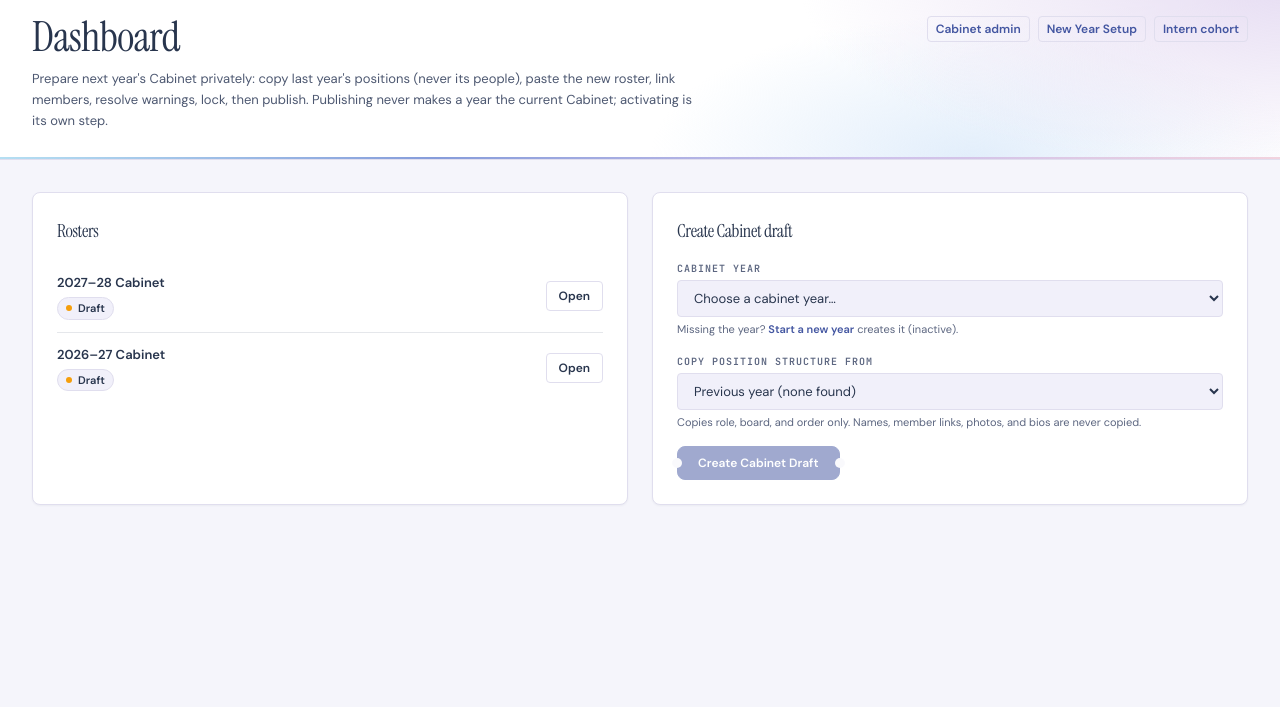
switching rosters while a load is in flight › never shows a slow response for the roster you already left
Click the button "Open" in the row of "2027–28": coordinates (574, 296) top-left (546, 281), bottom-right (603, 311)
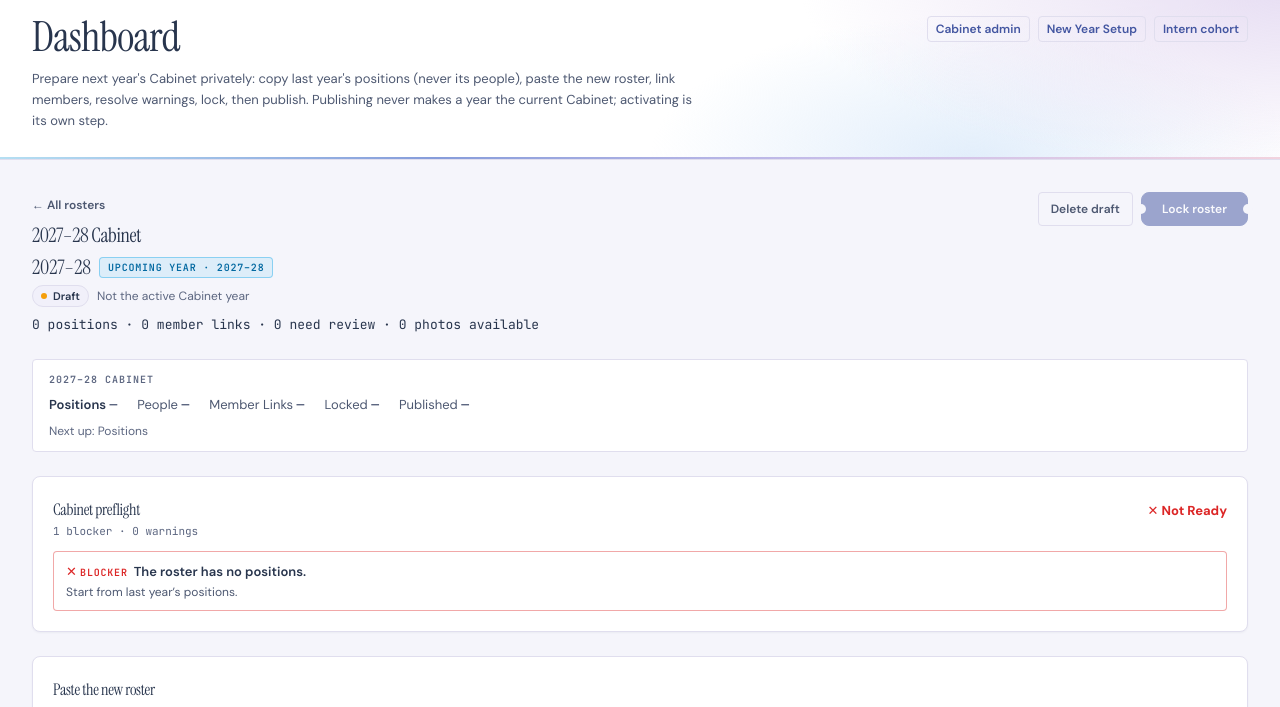
Expected: the heading "2027–28 Cabinet" is shown, top-left (32, 222), bottom-right (141, 248)
Click the button "← All rosters": coordinates (69, 205) top-left (32, 197), bottom-right (105, 213)
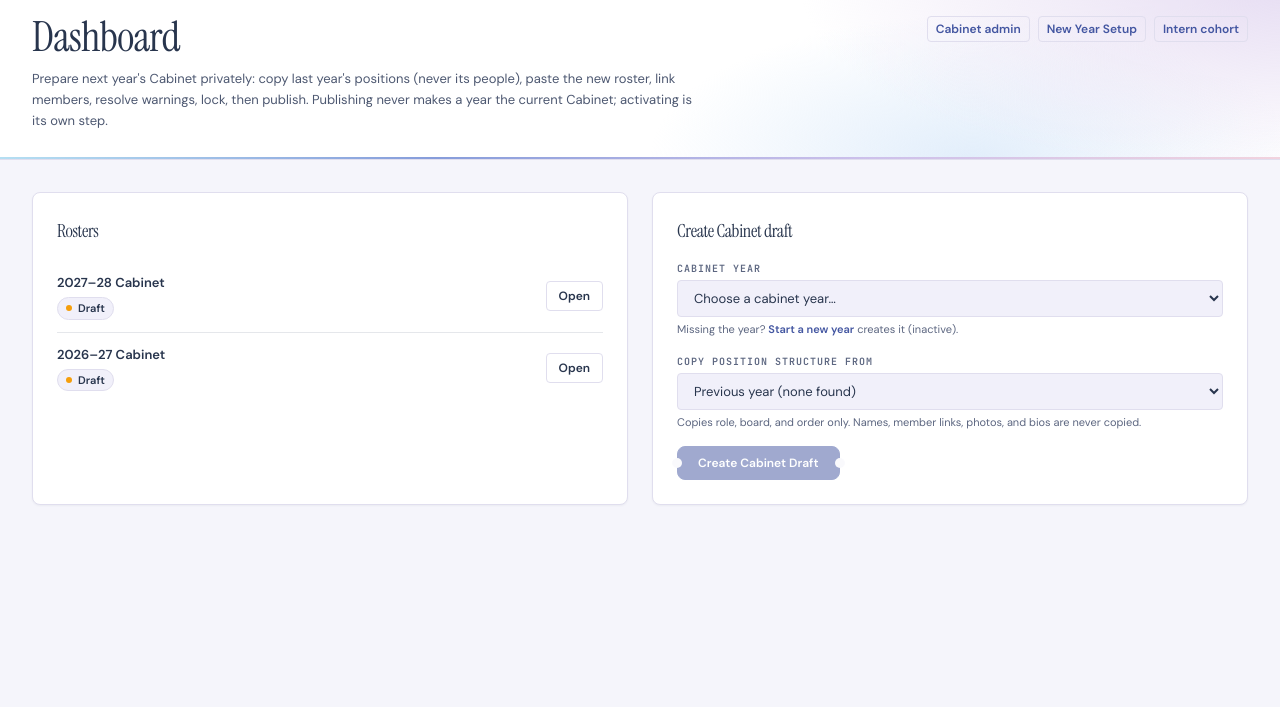
Click the button "Open" in the row of "2026–27": coordinates (574, 368) top-left (546, 353), bottom-right (603, 383)
(page scrolled)
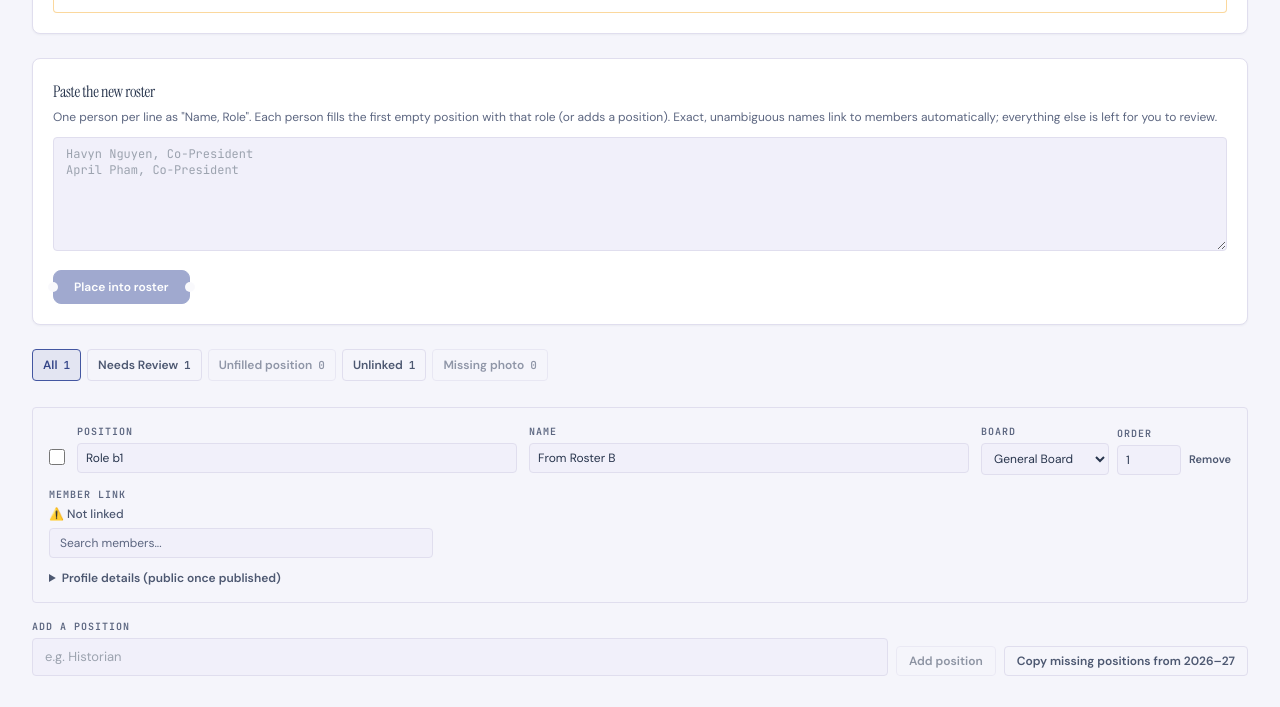
Expected: the field showing "From Roster B" is shown, top-left (529, 443), bottom-right (969, 473)
